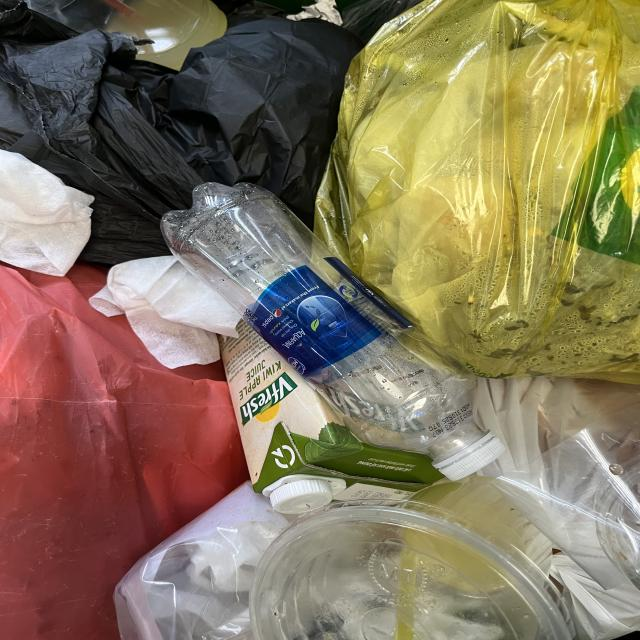bottle: (161, 181, 507, 482)
cardboard box: (221, 318, 448, 515)
lid: (251, 498, 578, 640)
napkin: (89, 256, 242, 370), (0, 149, 97, 277)
trash bag: (313, 0, 640, 387), (0, 266, 250, 640)
